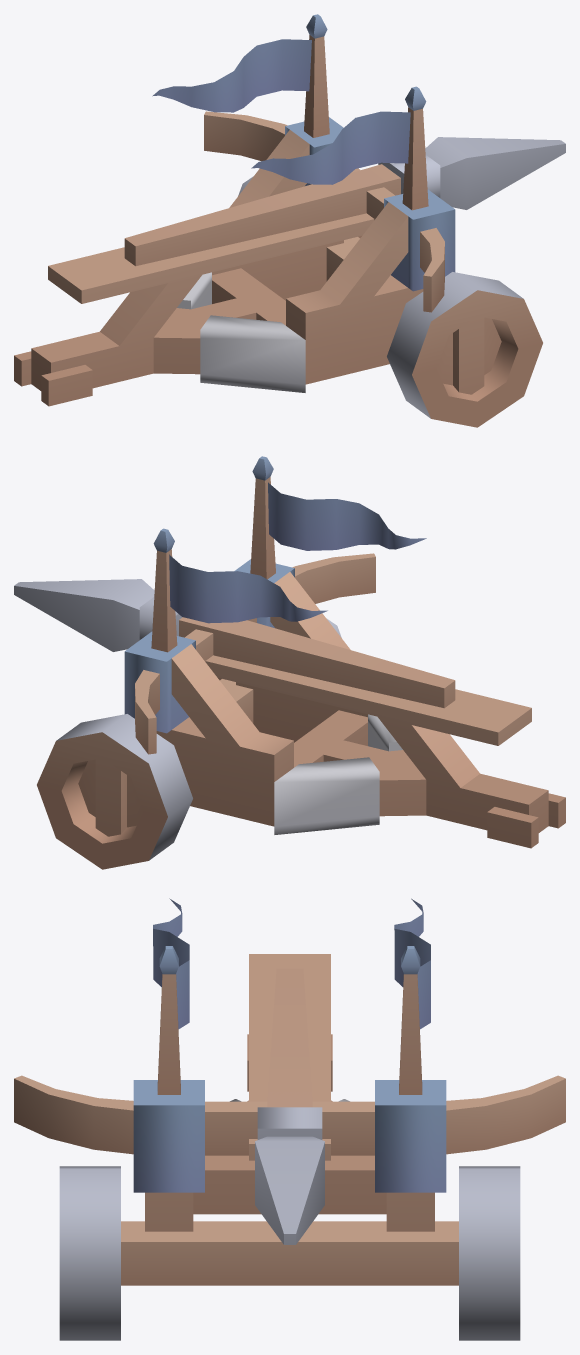
File: siege-ballista.glb
The picture shows the model from 3 angles, top to bottom: view 1: azimuth 30°, elevation 25°; view 2: azimuth 150°, elevation 25°; view 3: azimuth 270°, elevation 25°; orthographic projection. The views are drawn at different scales.
Visible parts, largest first — view 1: siege-ballista, wheel, arrow; view 2: siege-ballista, wheel, arrow; view 3: siege-ballista, wheel (×2), arrow.
Part boxes in pixels (x1,y1,x2,y2): siege-ballista: (14, 14, 455, 406); wheel: (387, 272, 542, 427); arrow: (124, 137, 565, 266); siege-ballista: (124, 456, 565, 848); wheel: (37, 714, 192, 869); arrow: (14, 579, 455, 708); siege-ballista: (14, 898, 565, 1285); wheel (×2): (59, 1166, 520, 1340); arrow: (255, 968, 324, 1244).
Bounding box in the file's own units: 1.63 × 0.9103 × 1.2.
